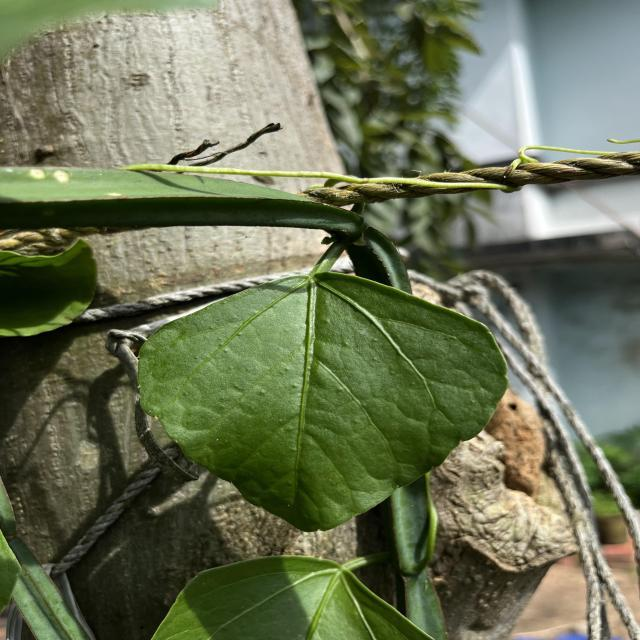Cissus quadrangularis: (132, 268, 514, 536)
